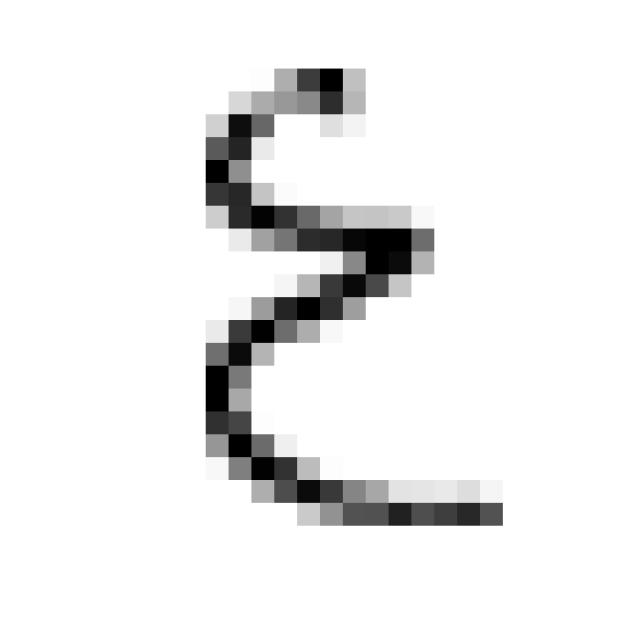4 -four-: (180, 37, 526, 546)
